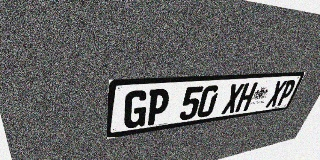0: (196, 85, 220, 118)
5: (179, 86, 204, 121)
G: (123, 90, 149, 129)
H: (235, 82, 258, 112)
P: (145, 88, 171, 126), (276, 80, 297, 106)
X: (221, 83, 245, 114), (265, 80, 287, 108)
